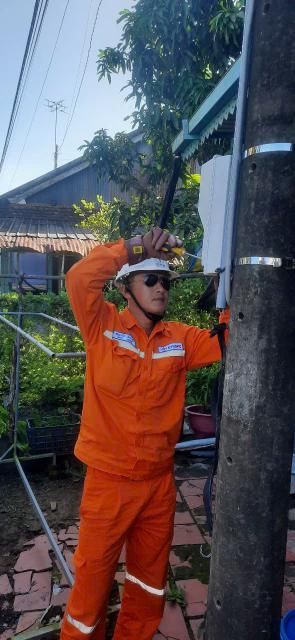gloves: (119, 223, 205, 265)
helmet: (106, 235, 190, 284)
